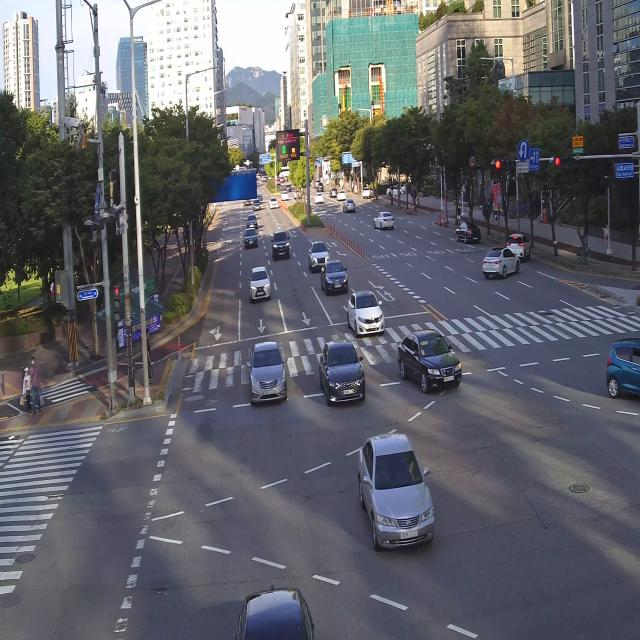Car: (354, 434, 438, 555), (396, 330, 467, 392), (314, 337, 364, 419), (245, 336, 292, 418), (598, 333, 640, 410), (344, 282, 387, 341), (242, 265, 281, 314), (317, 256, 355, 300), (481, 247, 523, 282), (304, 235, 330, 276), (505, 229, 531, 267), (270, 227, 292, 265), (371, 208, 396, 238), (451, 219, 481, 244), (244, 223, 260, 250), (358, 182, 376, 202), (340, 196, 356, 214), (314, 191, 328, 211), (249, 198, 265, 215), (268, 194, 279, 212)
